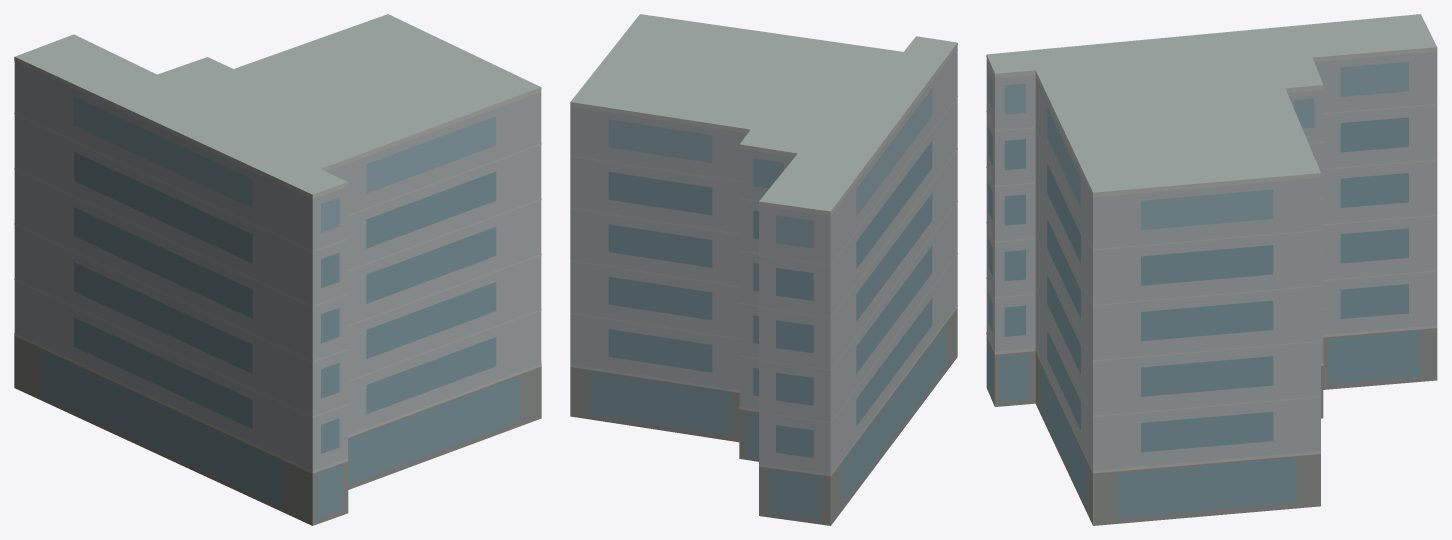
Rendered from survey-upis-32707548.glb.
3 renders of one model, left to right at view 1: azimuth 30°, elevation 25°; view 2: azimuth 150°, elevation 25°; view 3: azimuth 270°, elevation 25°, orthographic. The views are drawn at different scales.
Parts seen in each view (by area): view 1: survey-upis-32707548.tmp; view 2: survey-upis-32707548.tmp; view 3: survey-upis-32707548.tmp.
Part boxes in pixels (<box>): survey-upis-32707548.tmp: <box>14,14,541,525</box>; survey-upis-32707548.tmp: <box>570,14,957,525</box>; survey-upis-32707548.tmp: <box>986,14,1437,525</box>.
Bounding box in the file's own units: 20.09 × 17.45 × 21.41.
